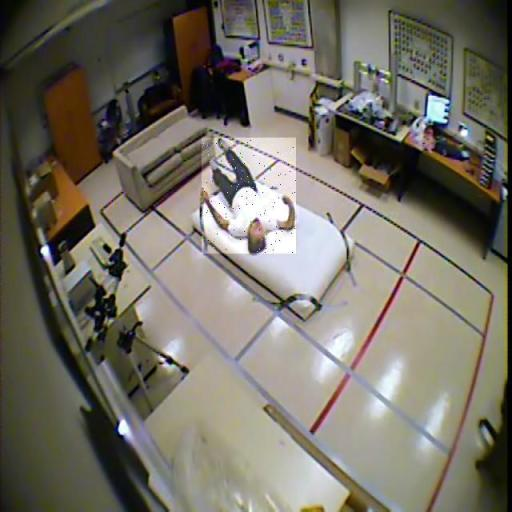Fall: (202, 138, 296, 254)
